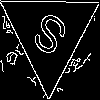S: (24, 9, 71, 66)
